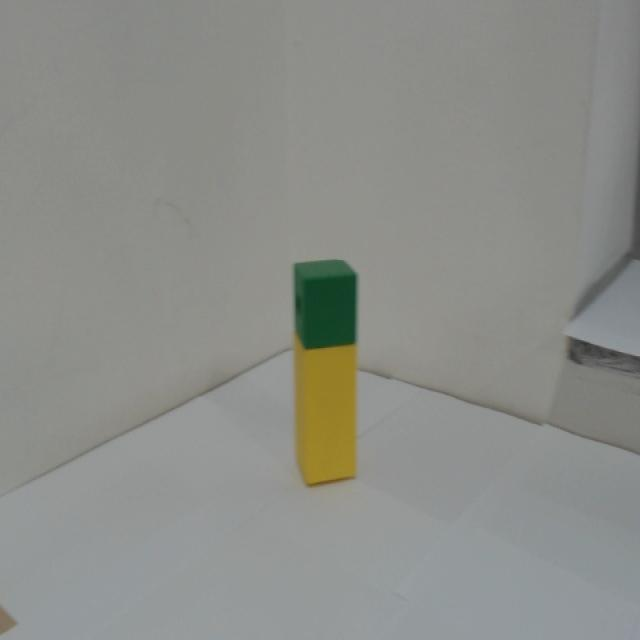cube: (292, 255, 358, 352)
